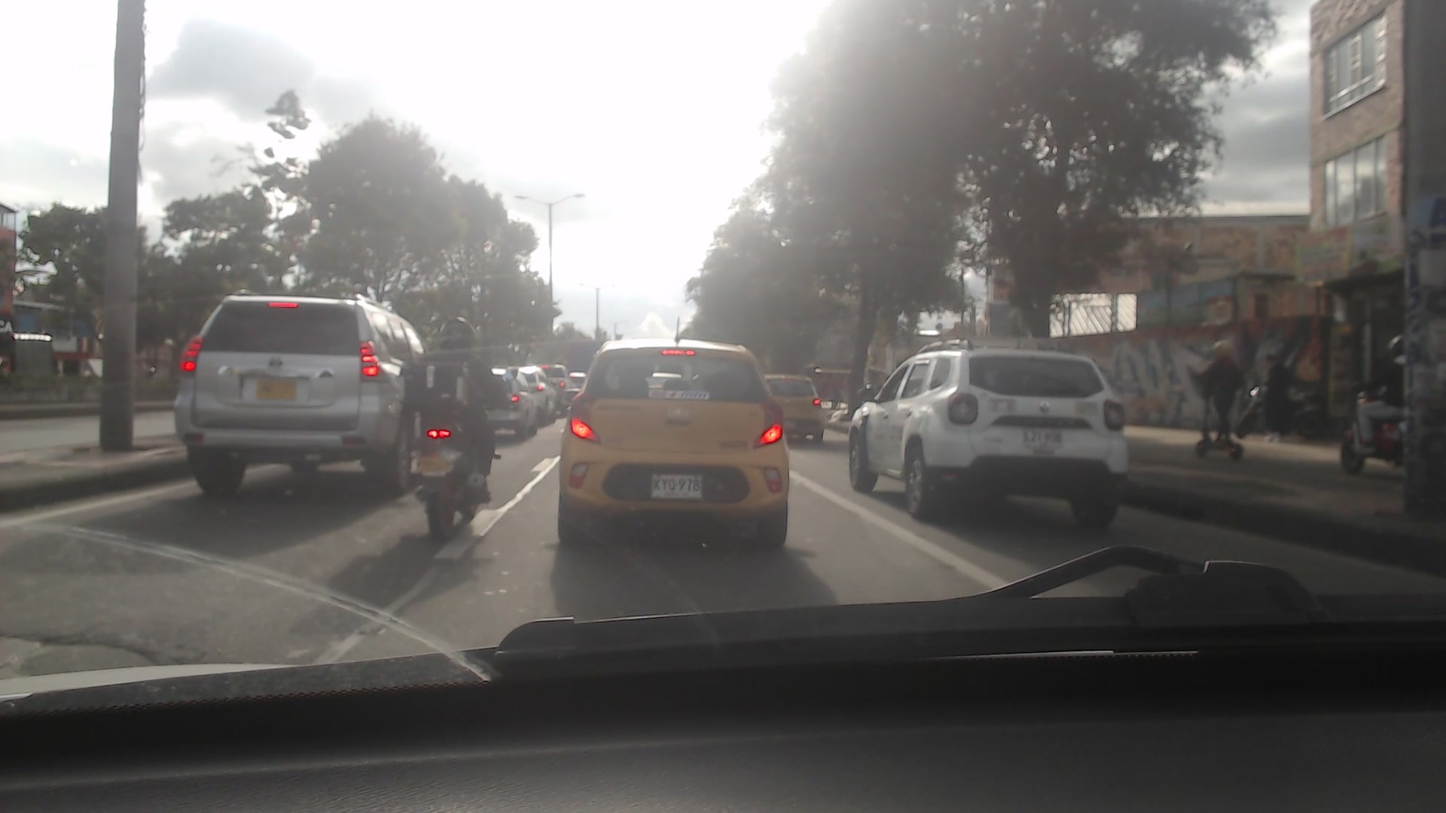car: (845, 336, 1133, 533), (552, 331, 792, 551), (170, 288, 415, 491), (743, 372, 836, 449), (481, 365, 544, 434)
motorcycle: (407, 416, 500, 544), (1326, 380, 1411, 474)
person: (410, 313, 492, 471), (1205, 336, 1245, 438), (1368, 330, 1412, 418)
